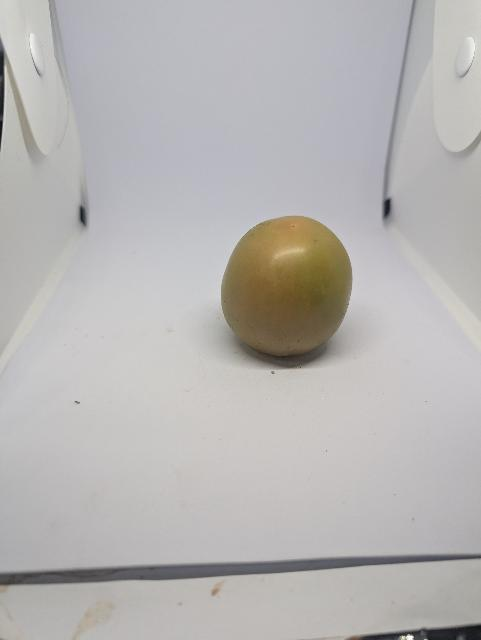breaker: (203, 206, 375, 371)
